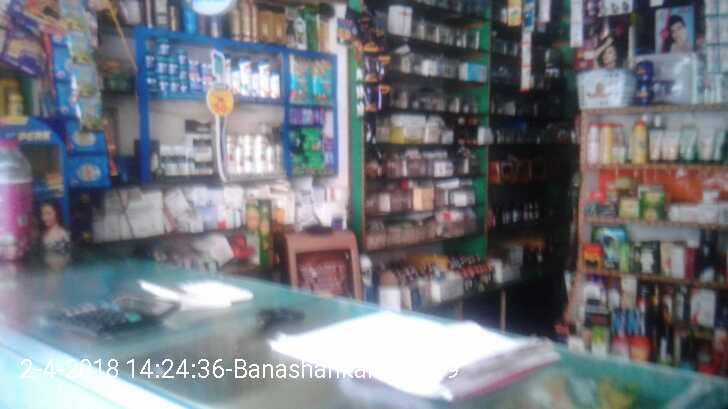vicks: (146, 76, 189, 92), (154, 57, 178, 73), (157, 37, 172, 58), (191, 59, 200, 73), (205, 65, 214, 76)
